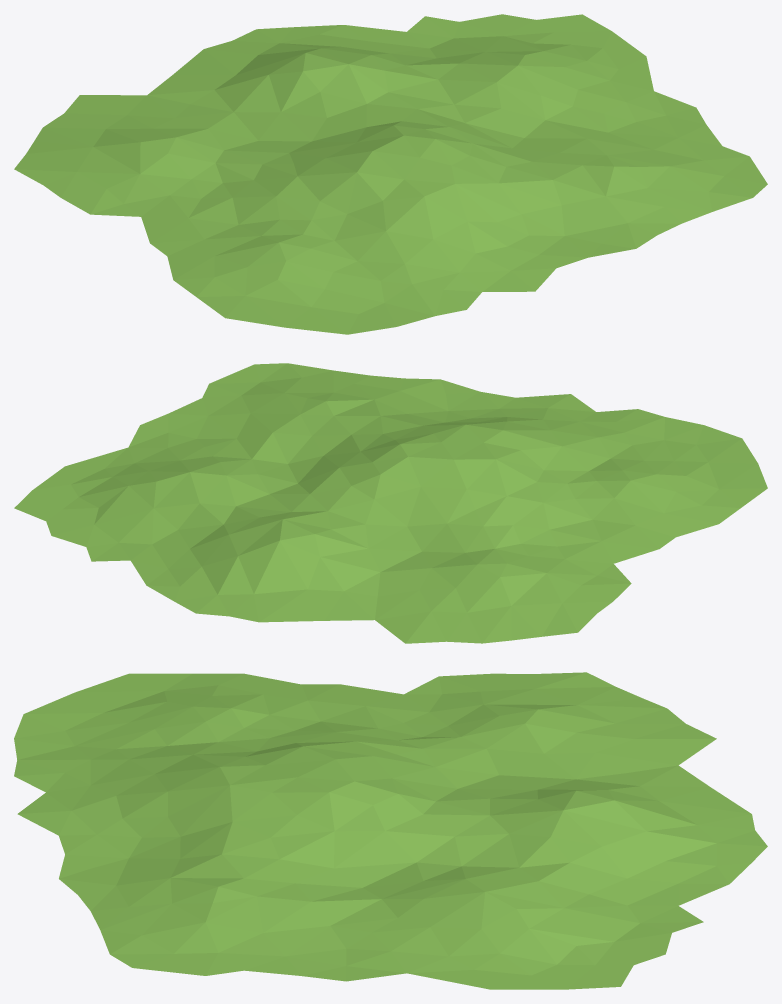
The model's file is MT_Mountain_M_a_02_LOD.fbx.
The picture shows the model from 3 angles, top to bottom: view 1: azimuth 30°, elevation 25°; view 2: azimuth 150°, elevation 25°; view 3: azimuth 270°, elevation 25°; orthographic projection. The views are drawn at different scales.
Parts seen in each view (by area): view 1: MT_Mountain_M_a_02_LOD0; view 2: MT_Mountain_M_a_02_LOD0; view 3: MT_Mountain_M_a_02_LOD0.
Boxes of the visible parts, x1=… form: MT_Mountain_M_a_02_LOD0: x1=14, y1=14, x2=767, y2=334; MT_Mountain_M_a_02_LOD0: x1=14, y1=363, x2=767, y2=643; MT_Mountain_M_a_02_LOD0: x1=14, y1=672, x2=767, y2=989.
Size of what is drawn, in the model's own units: 4606 by 316 by 4609.
